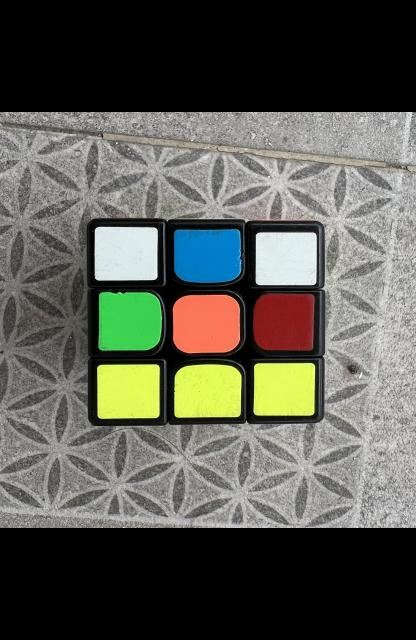Blue: (173, 229, 240, 283)
Green: (97, 292, 160, 350)
Orange: (172, 295, 239, 354)
Red: (252, 293, 313, 350)
White: (93, 227, 157, 281), (254, 232, 316, 285)
Yellow: (173, 364, 240, 418), (96, 364, 159, 419), (253, 363, 314, 416)
